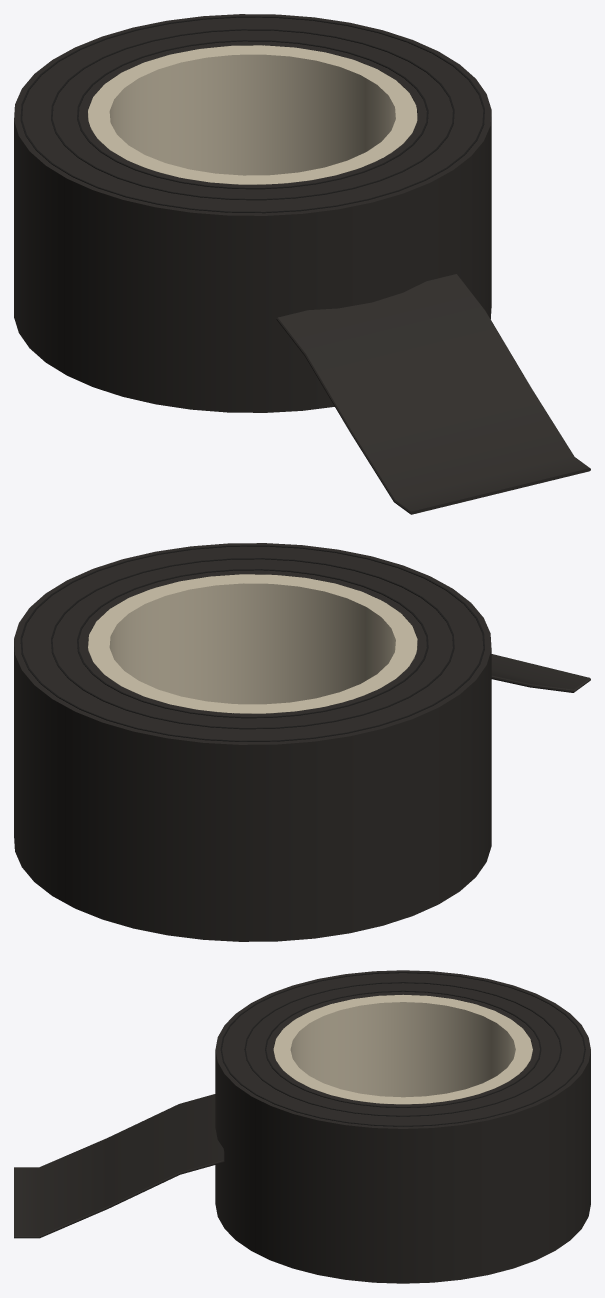
The model's file is gaff-tape-roll-a9a3a22229cd.glb.
The picture shows the model from 3 angles, top to bottom: view 1: azimuth 30°, elevation 25°; view 2: azimuth 150°, elevation 25°; view 3: azimuth 270°, elevation 25°; orthographic projection. The views are drawn at different scales.
Parts seen in each view (by area): view 1: speaker-cloth, paper, rubber; view 2: speaker-cloth, paper, rubber; view 3: speaker-cloth, paper, rubber.
Boxes of the visible parts, bbox=[...] form: speaker-cloth: bbox=[14, 14, 590, 514]; paper: bbox=[88, 45, 417, 184]; rubber: bbox=[20, 16, 484, 213]; speaker-cloth: bbox=[14, 543, 590, 941]; paper: bbox=[88, 574, 417, 713]; rubber: bbox=[20, 545, 484, 741]; speaker-cloth: bbox=[14, 970, 590, 1283]; paper: bbox=[273, 994, 532, 1104]; rubber: bbox=[220, 972, 585, 1126].
Size of the model in its own units: 0.11 by 0.0501 by 0.169.
